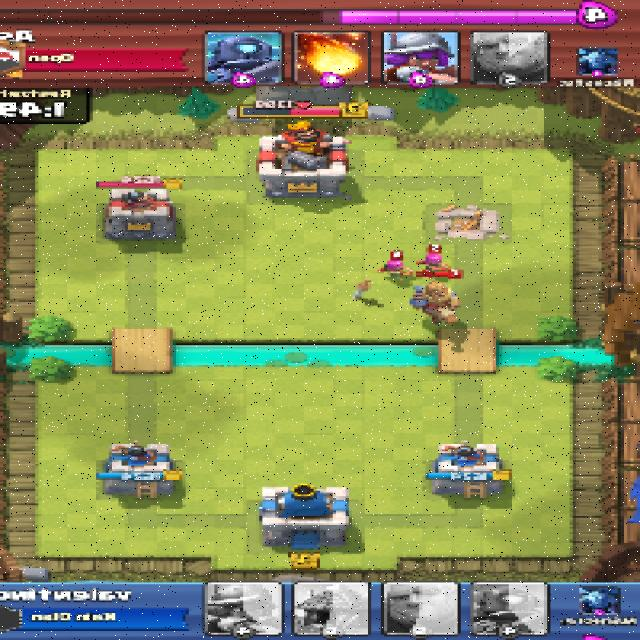Enemy-Archer: (418, 253, 453, 274), (381, 258, 416, 279)
Enemy-Prince: (407, 280, 463, 324)
